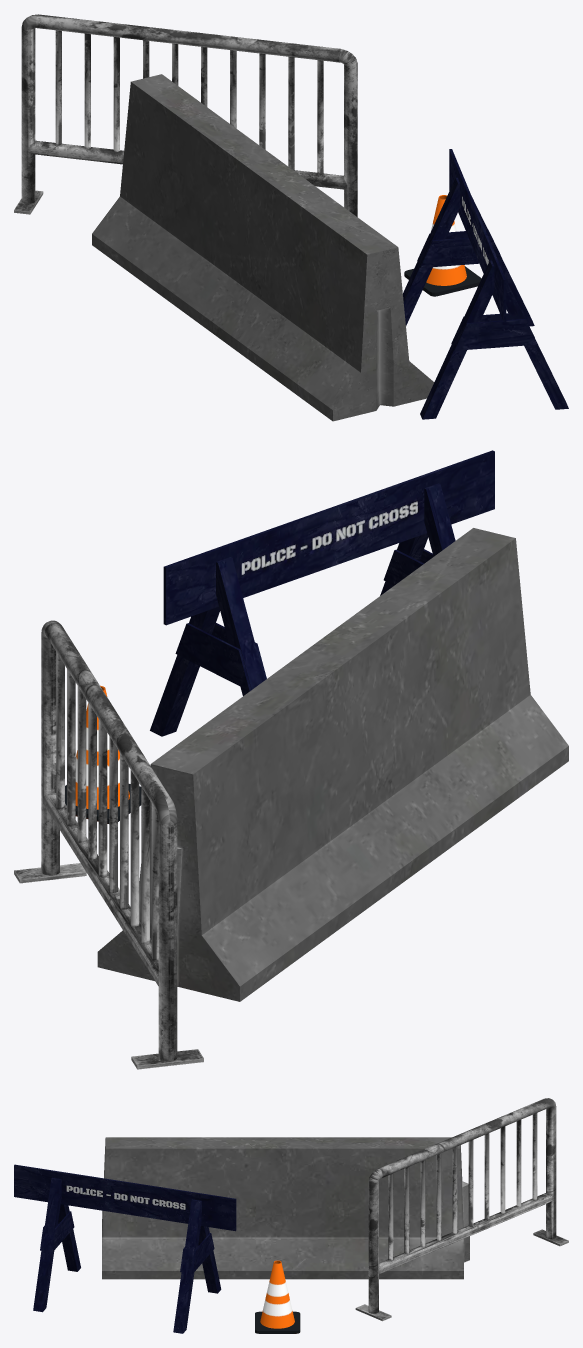
Rendered from road_barrier_collection.glb.
The picture shows the model from 3 angles, top to bottom: view 1: azimuth 30°, elevation 25°; view 2: azimuth 150°, elevation 25°; view 3: azimuth 270°, elevation 25°; orthographic projection. The views are drawn at different scales.
Parts seen in each view (by area): view 1: CementBarrier, MetalBarrier, WoodenBarrier, Cone; view 2: CementBarrier, MetalBarrier, WoodenBarrier, Cone; view 3: CementBarrier, MetalBarrier, WoodenBarrier, Cone.
Part boxes in pixels (x1,y1,x2,y2): CementBarrier: (92,74,434,421); MetalBarrier: (14,14,357,216); WoodenBarrier: (403,149,568,419); Cone: (404,195,481,296); CementBarrier: (97,528,568,1001); MetalBarrier: (14,620,203,1069); WoodenBarrier: (150,450,494,736); Cone: (65,685,141,823); CementBarrier: (102,1137,469,1279); MetalBarrier: (355,1098,568,1321); WoodenBarrier: (14,1164,236,1333); Cone: (255,1260,300,1333).
Bounding box in the file's own units: 5.36 × 3.48 × 12.27.
4 materials, 4 textured.
